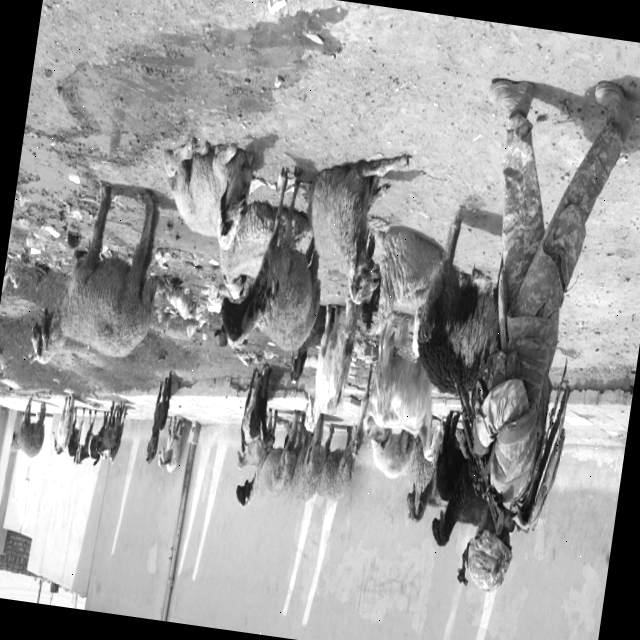sheep: (30, 190, 159, 363)
